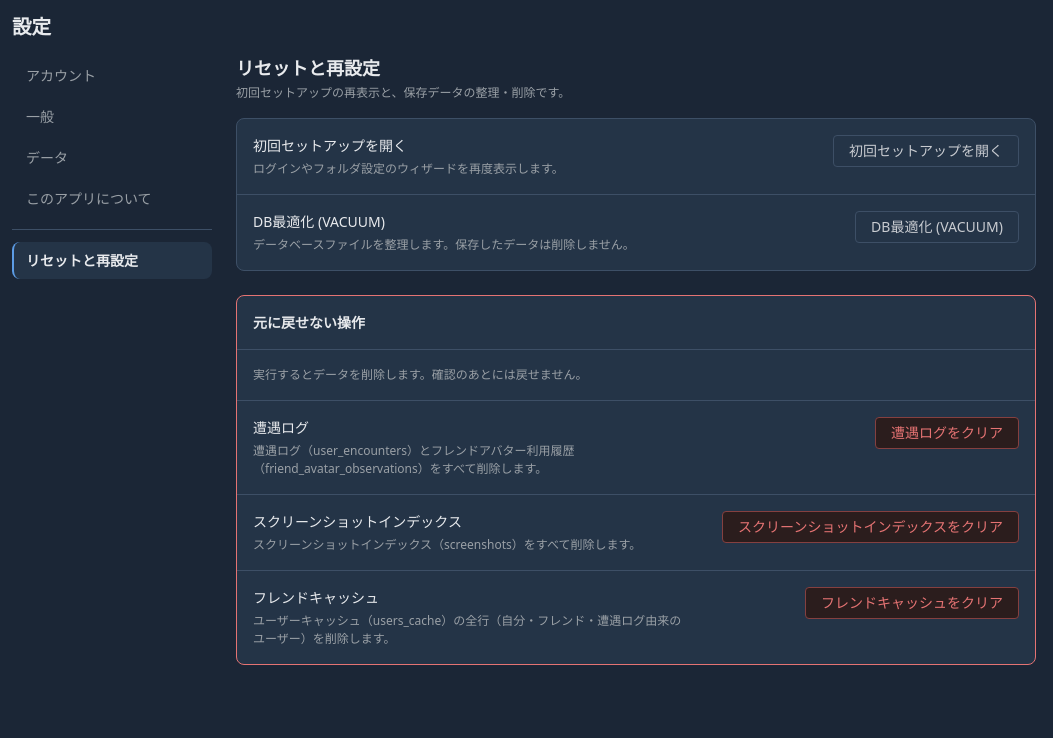
Test: SettingsView › shows maintenance error when operation fails
Click the button with test id "settings-vacuum" at point(937, 227), box left=855, top=211, right=1019, bottom=243
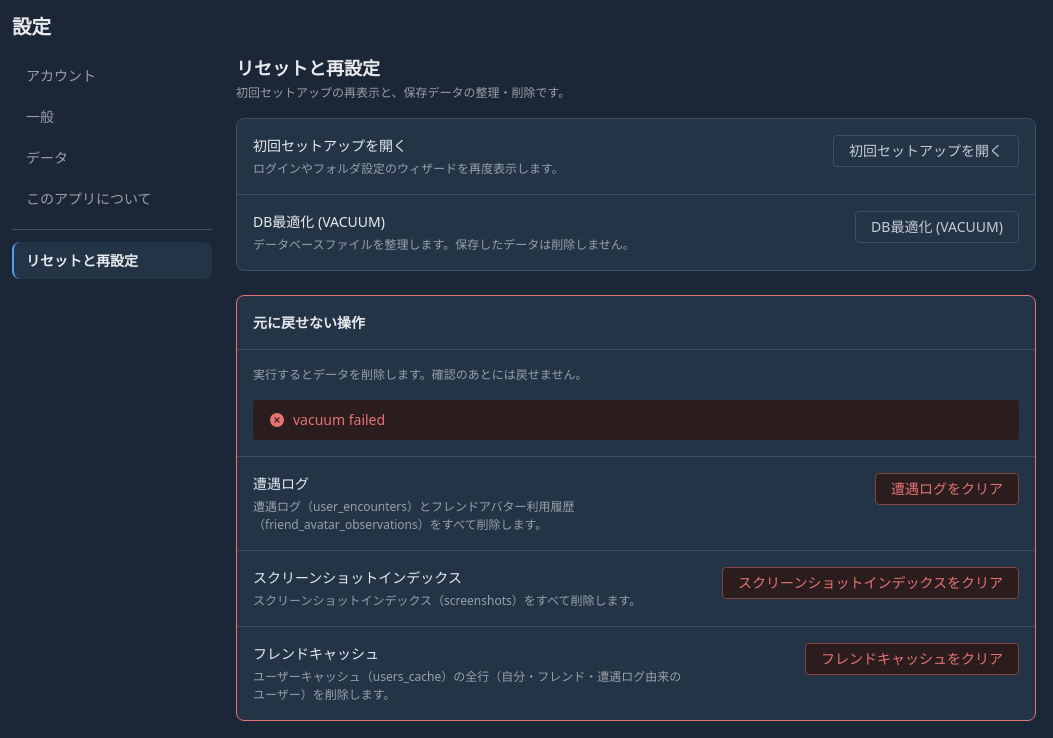
Now the message "vacuum failed" is shown, box left=253, top=400, right=1019, bottom=440
